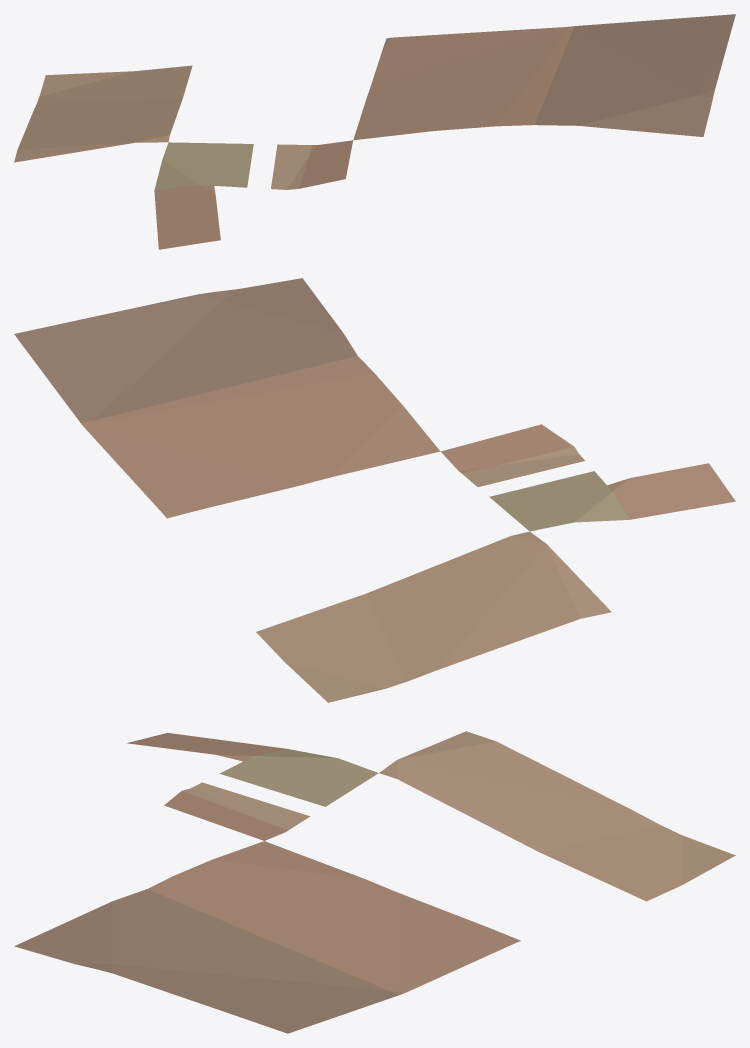
Rendered from farm_-33_-34_soil.glb.
3 views of the same model, one above another, from view 1: azimuth 30°, elevation 25°; view 2: azimuth 150°, elevation 25°; view 3: azimuth 270°, elevation 25° (orthographic). The views are drawn at different scales.
Visible parts, largest first — view 1: geometry_0; view 2: geometry_0; view 3: geometry_0.
Boxes of the visible parts, x1=… form: geometry_0: x1=14, y1=14, x2=735, y2=249; geometry_0: x1=14, y1=278, x2=735, y2=702; geometry_0: x1=14, y1=731, x2=735, y2=1033.
Size of the model in its own units: 238 by 31.67 by 203.
